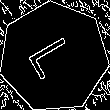L_NE: (24, 31, 84, 83)
